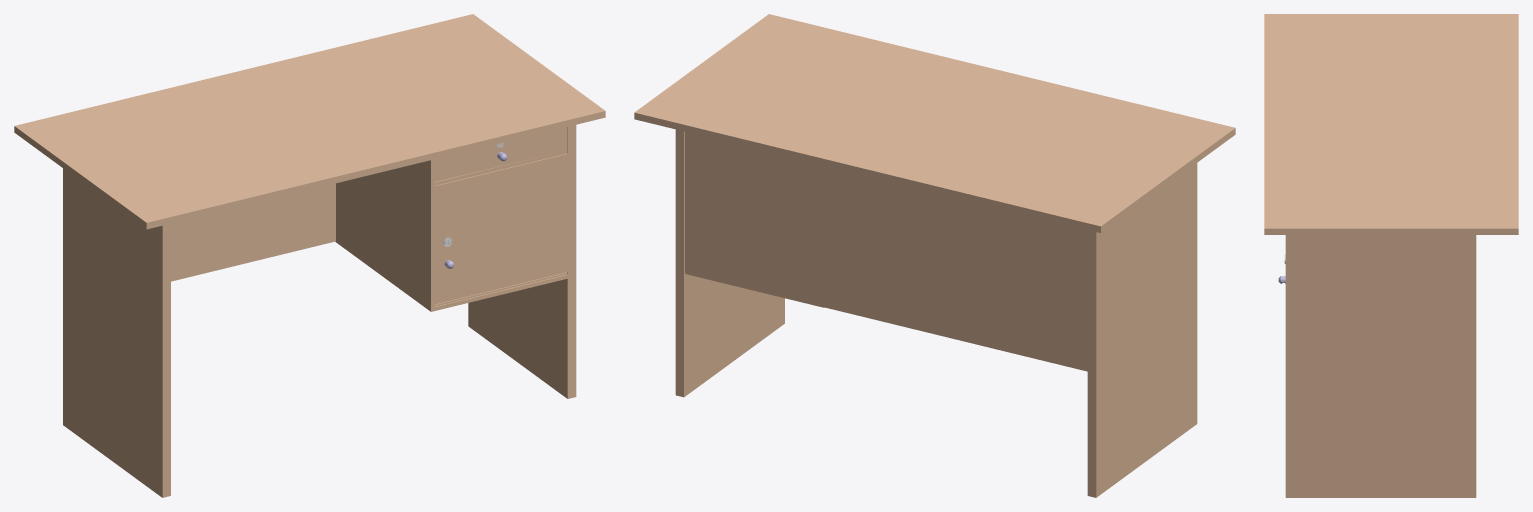
Rendered from table.black.medium.compacted.fbx.
3 views of the same model, side by side, from view 1: azimuth 30°, elevation 25°; view 2: azimuth 150°, elevation 25°; view 3: azimuth 270°, elevation 25° (orthographic). The views are drawn at different scales.
Visible parts, largest first — view 1: table.main.frame.top, table.inside.container.lower, table.inside.container.upper; view 2: table.main.frame.top; view 3: table.main.frame.top.
Boxes of the visible parts, bbox=[...] form: table.main.frame.top: bbox=[14, 14, 605, 497]; table.inside.container.lower: bbox=[434, 153, 567, 304]; table.inside.container.upper: bbox=[434, 127, 567, 181]; table.main.frame.top: bbox=[634, 14, 1235, 497]; table.main.frame.top: bbox=[1264, 14, 1518, 497].
Size of the model in its own units: 120 by 72.38 by 60.
